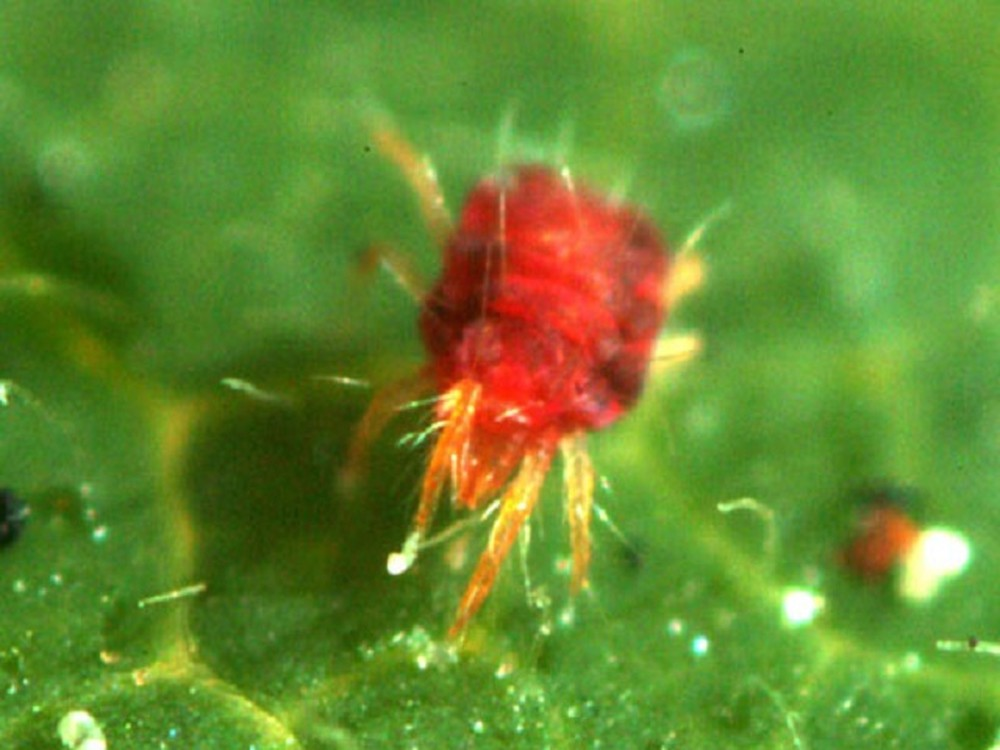Aracnido Rojo: (296, 88, 730, 636)
